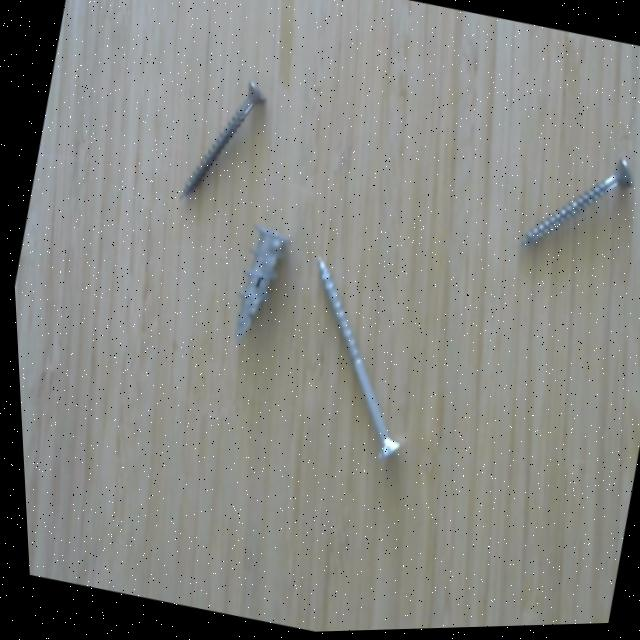Black screw: (168, 71, 274, 211), (511, 155, 636, 259)
Long screw: (305, 246, 404, 478)
Short screw: (220, 216, 299, 353)
